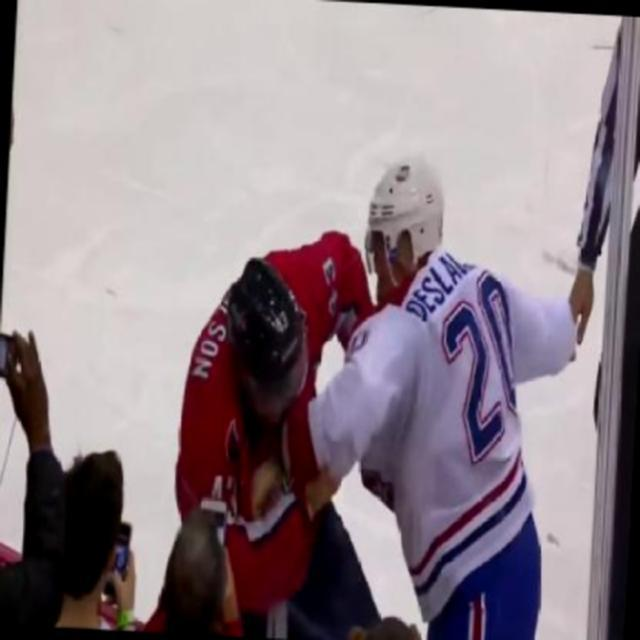fight: (163, 142, 586, 638)
